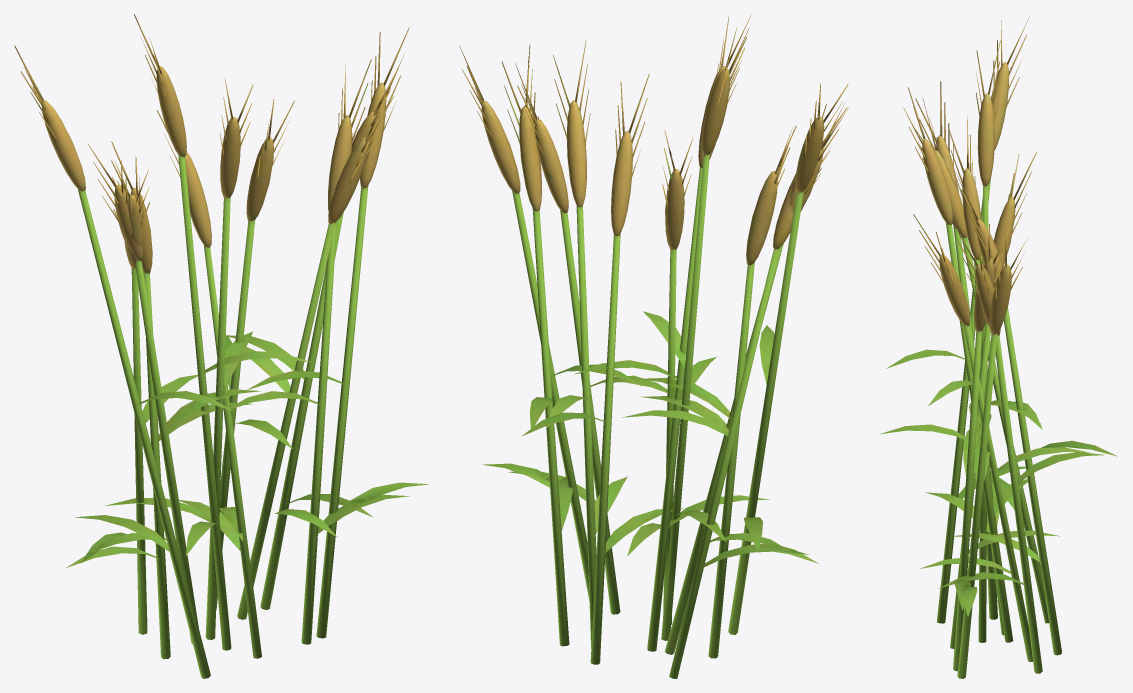
Rendered from crop_rye.glb.
3 renders of one model, left to right at view 1: azimuth 30°, elevation 25°; view 2: azimuth 150°, elevation 25°; view 3: azimuth 270°, elevation 25°, orthographic. The views are drawn at different scales.
Visible parts, largest first — view 1: crop_rye, fruit; view 2: crop_rye, fruit; view 3: crop_rye, fruit.
Part boxes in pixels (x1=…): crop_rye: x1=65, y1=155, x2=428, y2=678; fruit: x1=14, y1=14, x2=409, y2=273; crop_rye: x1=482, y1=154, x2=818, y2=678; fruit: x1=459, y1=14, x2=849, y2=265; crop_rye: x1=879, y1=178, x2=1117, y2=678; fruit: x1=903, y1=16, x2=1036, y2=335.
Bounding box in the file's own units: 0.3679 × 0.5817 × 0.2237.
Materials: 1 (1 with a texture image).
